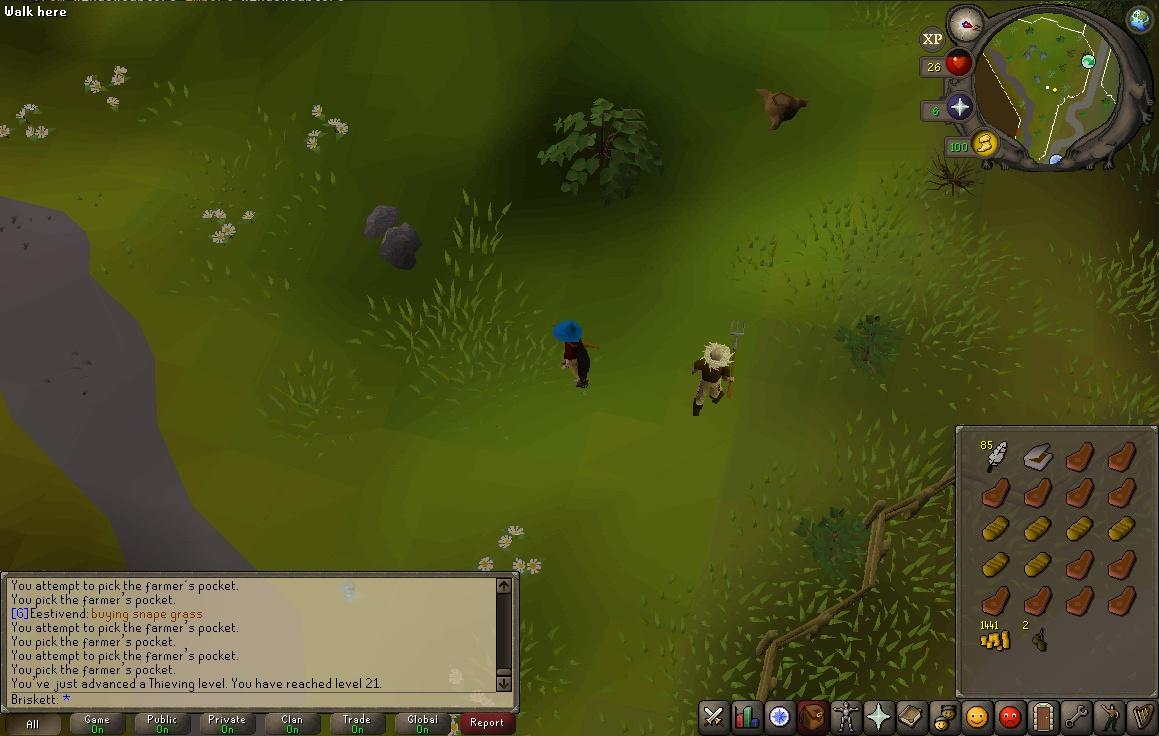Farmer: (691, 341, 736, 418)
